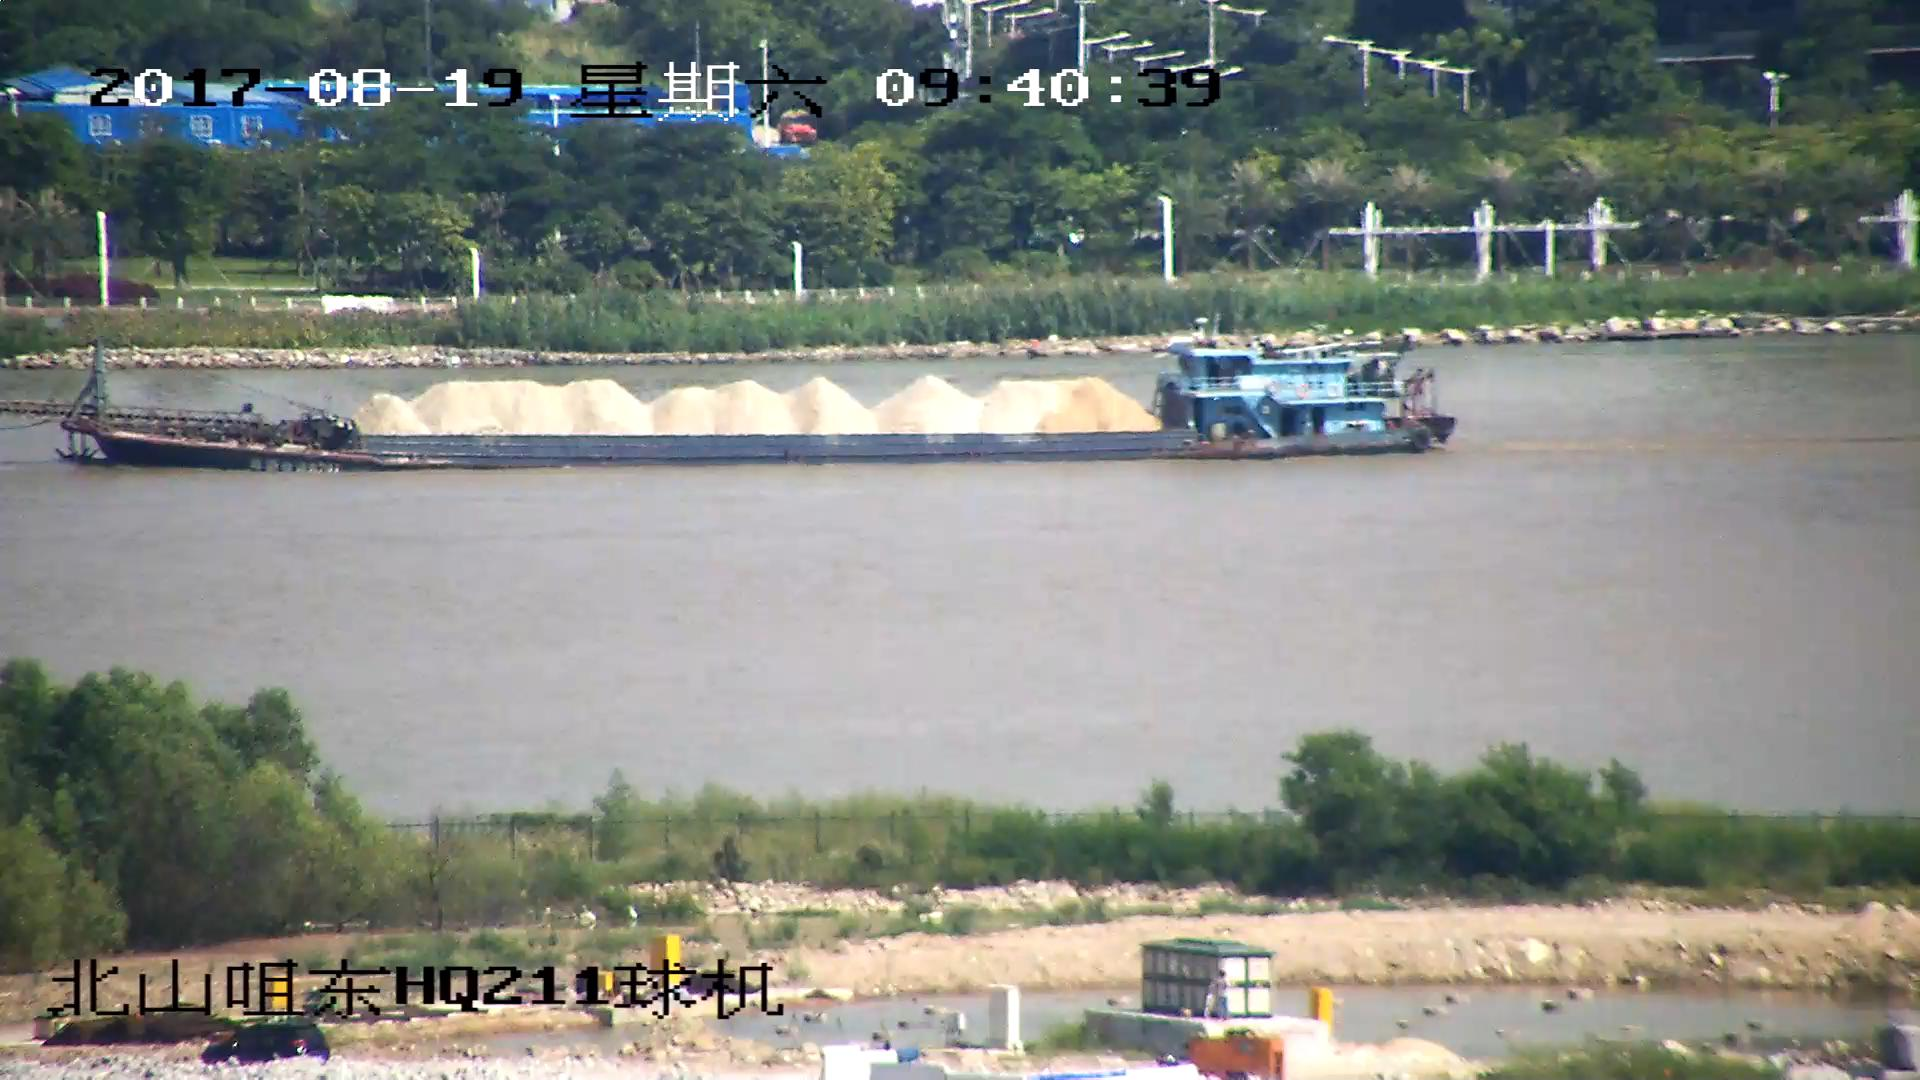ore carrier: (1, 337, 1457, 471)
